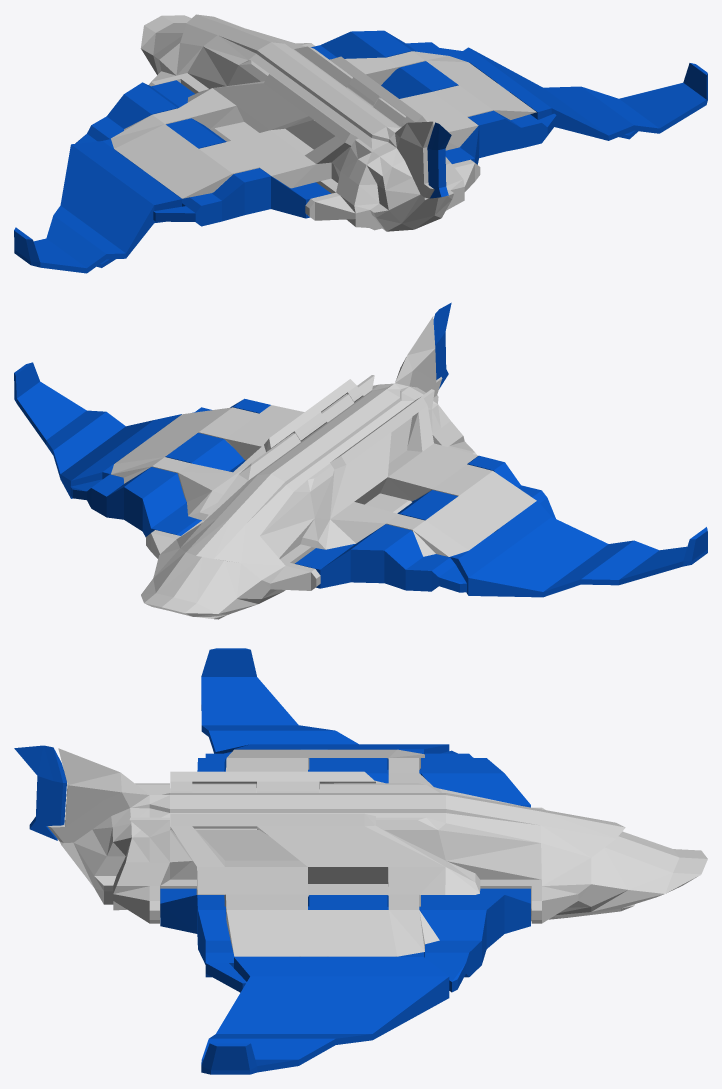
The model's file is techplane.dae.
3 renders of one model, top to bottom at view 1: azimuth 30°, elevation 25°; view 2: azimuth 150°, elevation 25°; view 3: azimuth 270°, elevation 25°, orthographic. The views are drawn at different scales.
Parts seen in each view (by area): view 1: Cylinder_007; view 2: Cylinder_007; view 3: Cylinder_007.
Boxes of the visible parts, box(x1,y1,x2,y2) form: Cylinder_007: box(14, 14, 707, 273); Cylinder_007: box(14, 302, 707, 619); Cylinder_007: box(14, 648, 707, 1074).
Bounding box in the file's own units: 3.6 × 2.65 × 0.7062.
